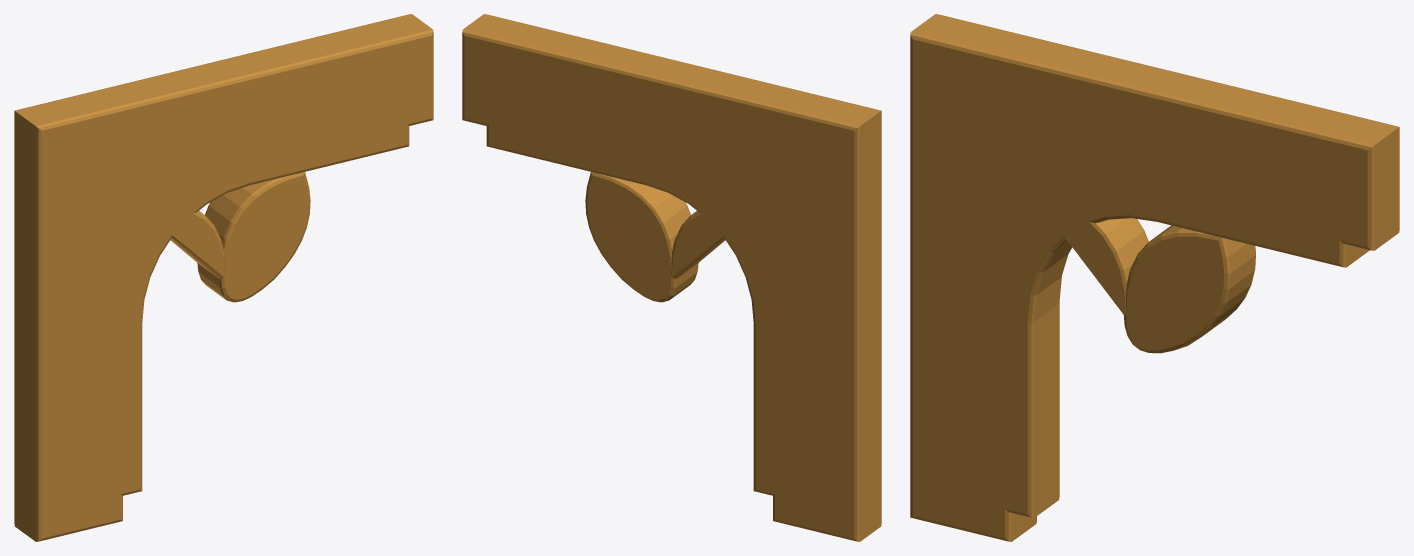
File: grimoire-corner-reference.glb
3 views of the same model, side by side, from view 1: azimuth 30°, elevation 25°; view 2: azimuth 150°, elevation 25°; view 3: azimuth 330°, elevation 25° (orthographic). The views are drawn at different scales.
Visible parts, largest first — view 1: CornerPlate; view 2: CornerPlate; view 3: CornerPlate.
Boxes of the visible parts, x1=… form: CornerPlate: x1=14, y1=14, x2=433, y2=541; CornerPlate: x1=462, y1=14, x2=881, y2=541; CornerPlate: x1=910, y1=14, x2=1399, y2=541.
Bounding box in the file's own units: 28.52 × 28.52 × 3.15.
